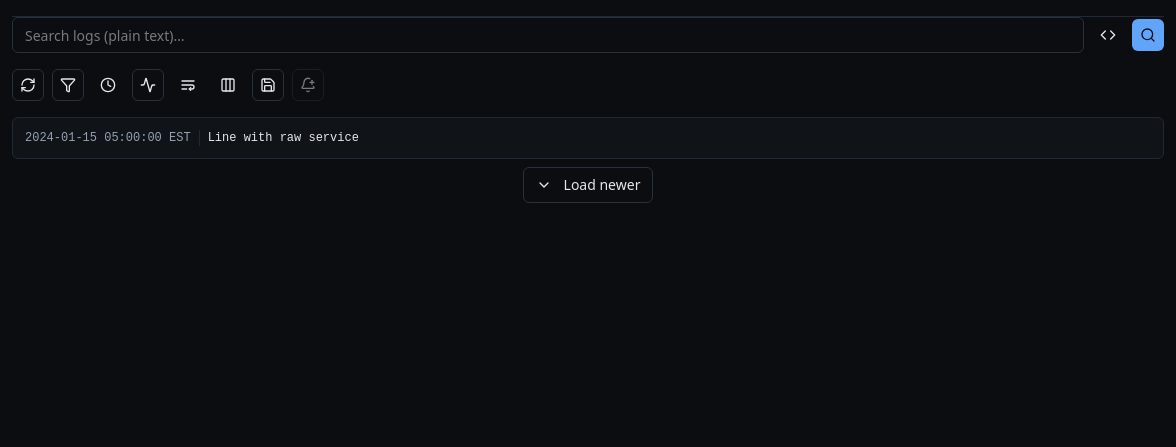
it: LogsExplorerBody (surrounding mode) › scopes to service+source_type only when toggled to only-this-service AND the line has a raw service field
The width and height of the screenshot is (1176, 447).
Click the button with test id "log-row": coordinates (192, 138) [25,130,359,146]
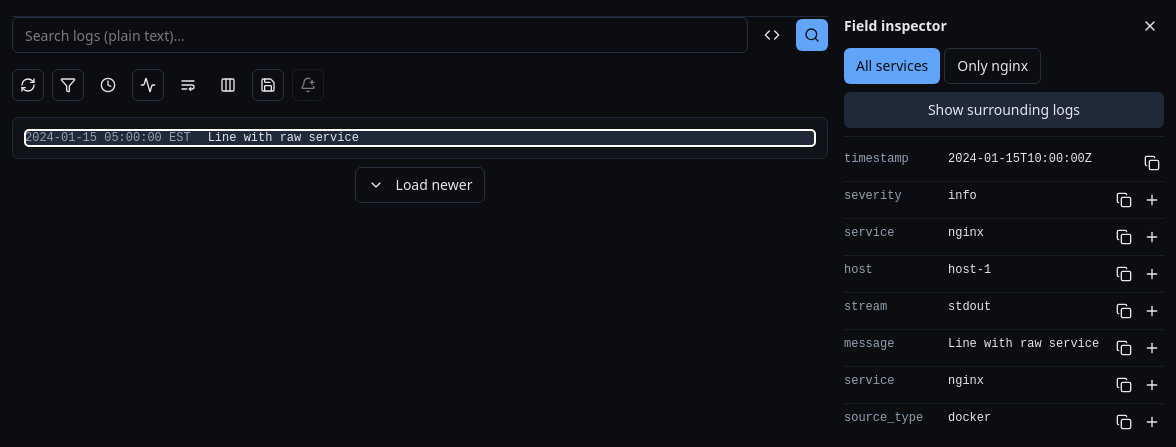
Check: the button with test id "surrounding-scope-service" is shown
Note: Explicitly narrow to only-this-service, then enter.
Click the button with test id "surrounding-scope-service": coordinates (993, 66) [944,48,1041,84]
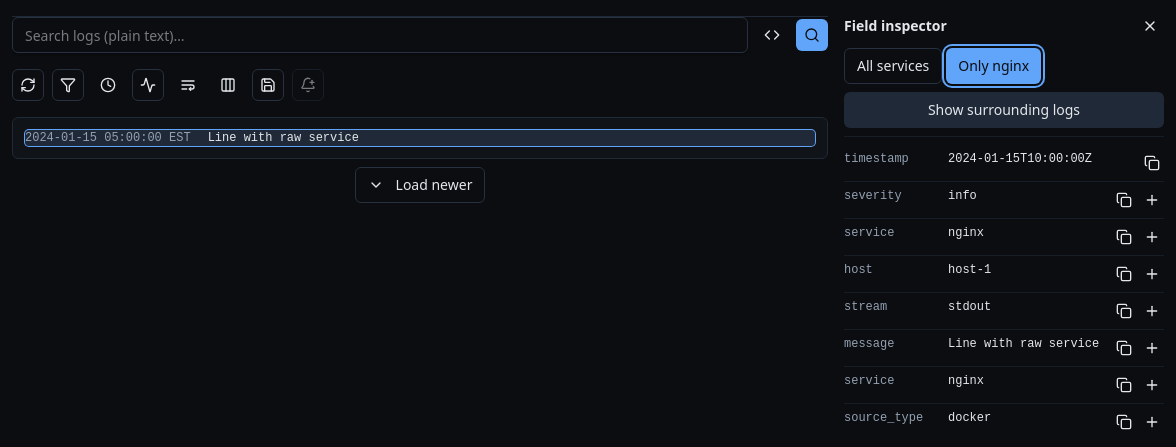
Click the button with test id "show-surrounding-logs": coordinates (1004, 110) [844,92,1164,128]
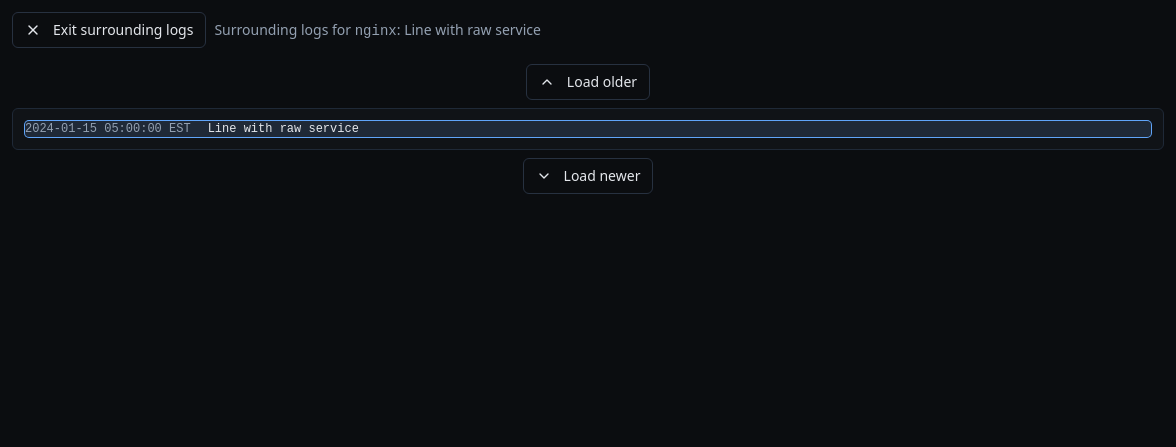
Check: the element with test id "surrounding-mode-bar" is shown, box [12,12,541,48]
